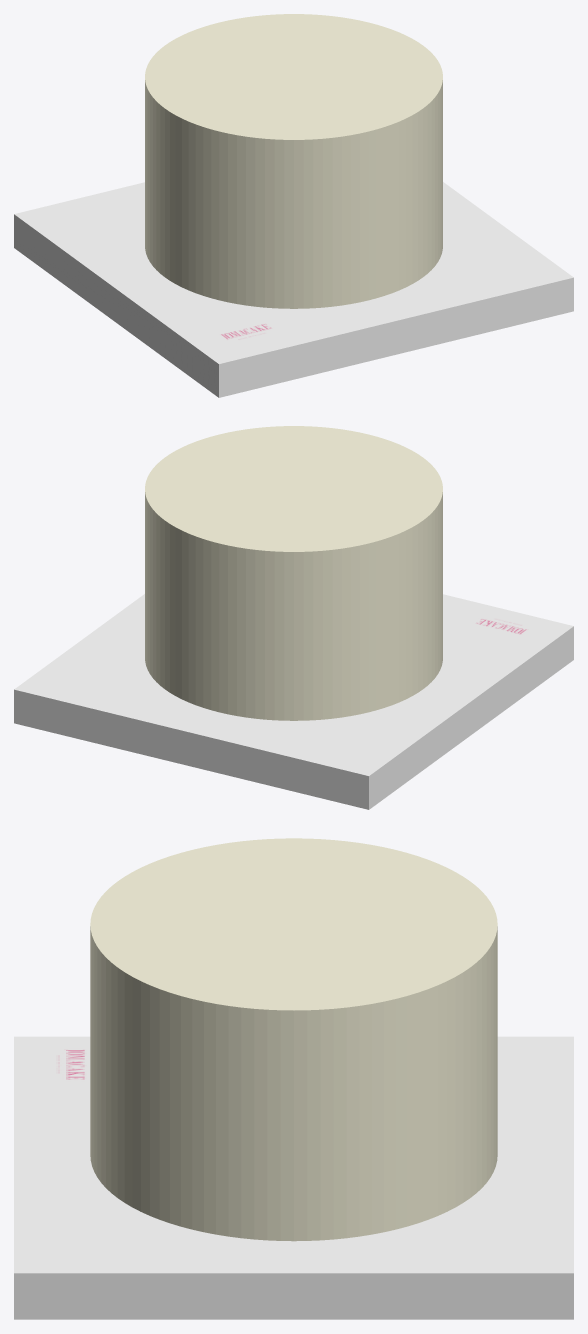
File: cake_6in_layers3_v33.glb
The picture shows the model from 3 angles, top to bottom: view 1: azimuth 30°, elevation 25°; view 2: azimuth 150°, elevation 25°; view 3: azimuth 270°, elevation 25°; orthographic projection. The views are drawn at different scales.
Visible parts, largest first — view 1: Cake, Board, Logo; view 2: Cake, Board, Logo; view 3: Cake, Board, Logo.
Part boxes in pixels (box(x1,y1,x2,y2)): Cake: box(145, 14, 442, 308); Board: box(14, 182, 573, 397); Logo: box(212, 320, 284, 345); Cake: box(145, 426, 442, 720); Board: box(14, 594, 573, 809); Logo: box(467, 612, 539, 637); Cake: box(90, 838, 497, 1241); Board: box(14, 1036, 573, 1319); Logo: box(47, 1045, 90, 1083).
Bounding box in the file's own units: 0.22 × 0.12 × 0.22.
